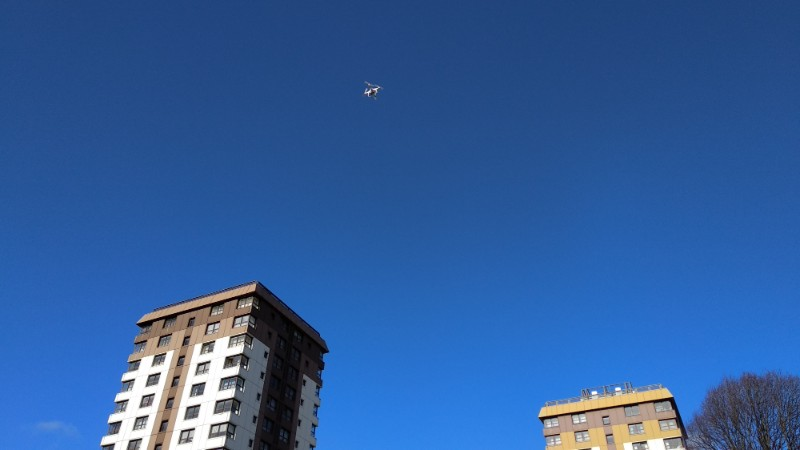drone: (359, 79, 384, 101)
